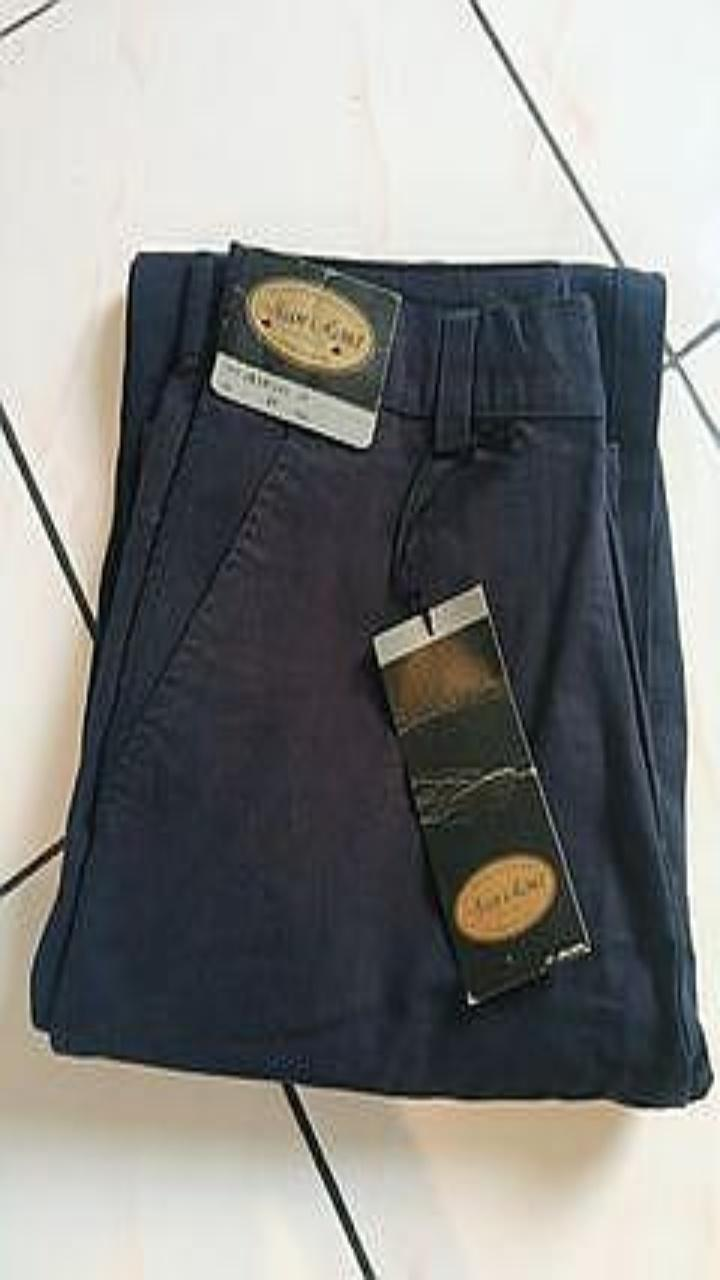Shorts: (31, 243, 712, 1105)
